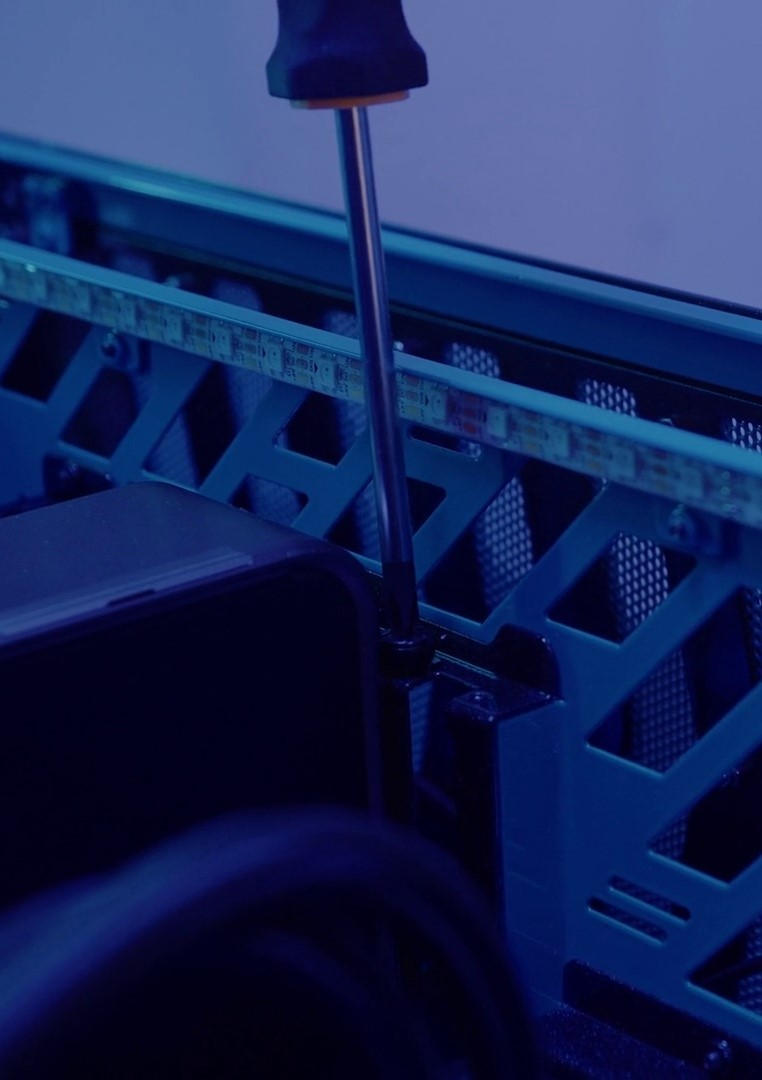screwdriver: (259, 1, 434, 634)
